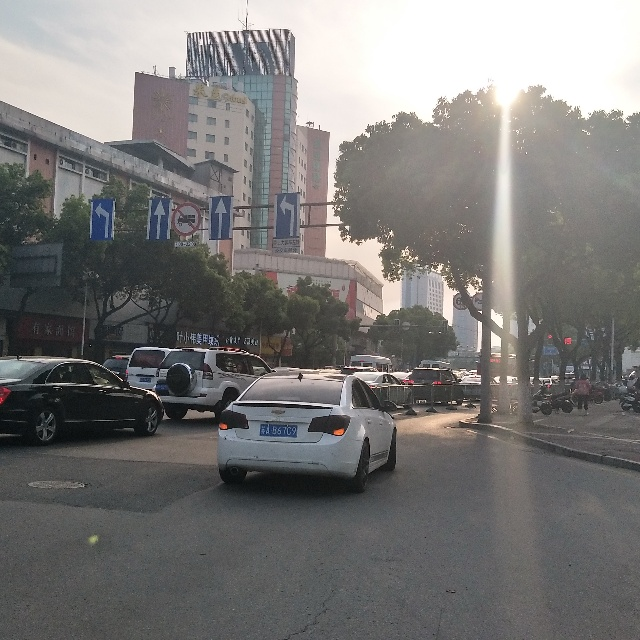left: (272, 193, 305, 240), (94, 200, 115, 241)
straight: (150, 197, 172, 241), (213, 199, 230, 242)
